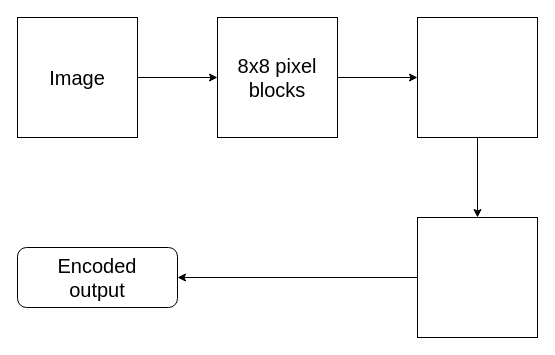
Some shapes in this 555 by 355 pixel diagram are drawn without their labels. The shapes that lost their labels are listed below. From the top down, each one's box as (x1, y1, x2, y2) in pixels, then its label:
(416, 16, 538, 138): DCT output
(416, 216, 538, 338): Quantised output
